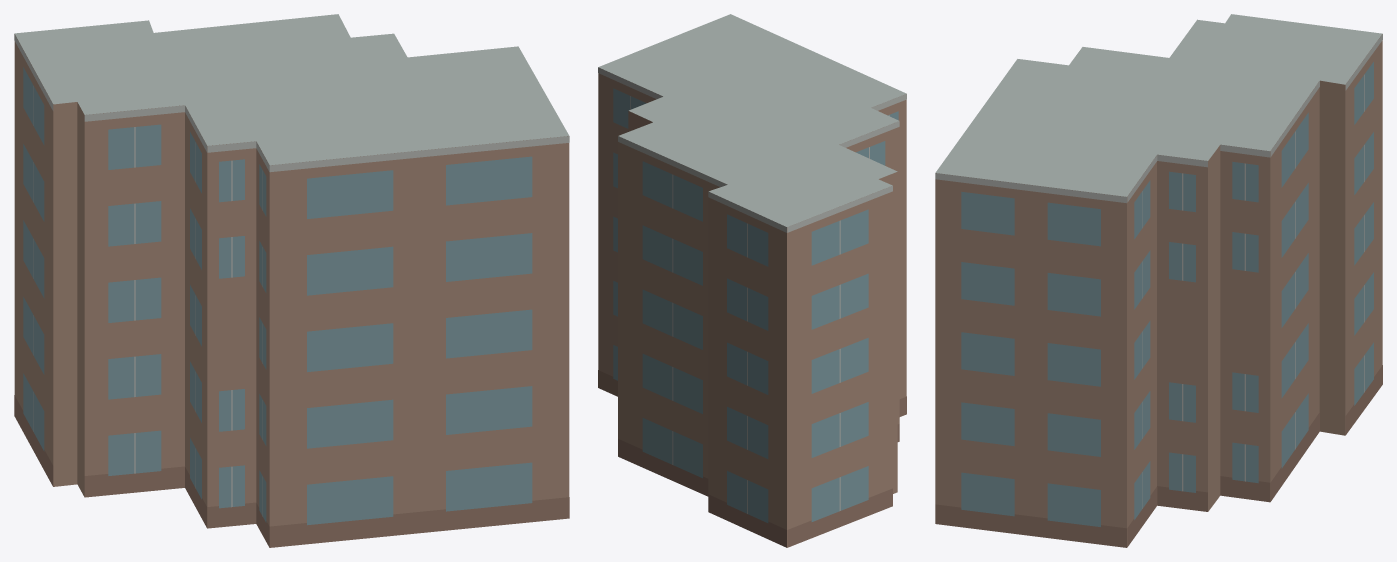
The model's file is survey-upis-32909845.glb.
The picture shows the model from 3 angles, left to right: view 1: azimuth 30°, elevation 25°; view 2: azimuth 150°, elevation 25°; view 3: azimuth 270°, elevation 25°; orthographic projection. The views are drawn at different scales.
Parts seen in each view (by area): view 1: survey-upis-32909845.tmp; view 2: survey-upis-32909845.tmp; view 3: survey-upis-32909845.tmp.
Part boxes in pixels (left/top/right/bottom): survey-upis-32909845.tmp: left=14, top=14, right=569, bottom=547; survey-upis-32909845.tmp: left=598, top=14, right=906, bottom=547; survey-upis-32909845.tmp: left=935, top=14, right=1382, bottom=547.
Bounding box in the file's own units: 15.09 × 13.5 × 15.61.
